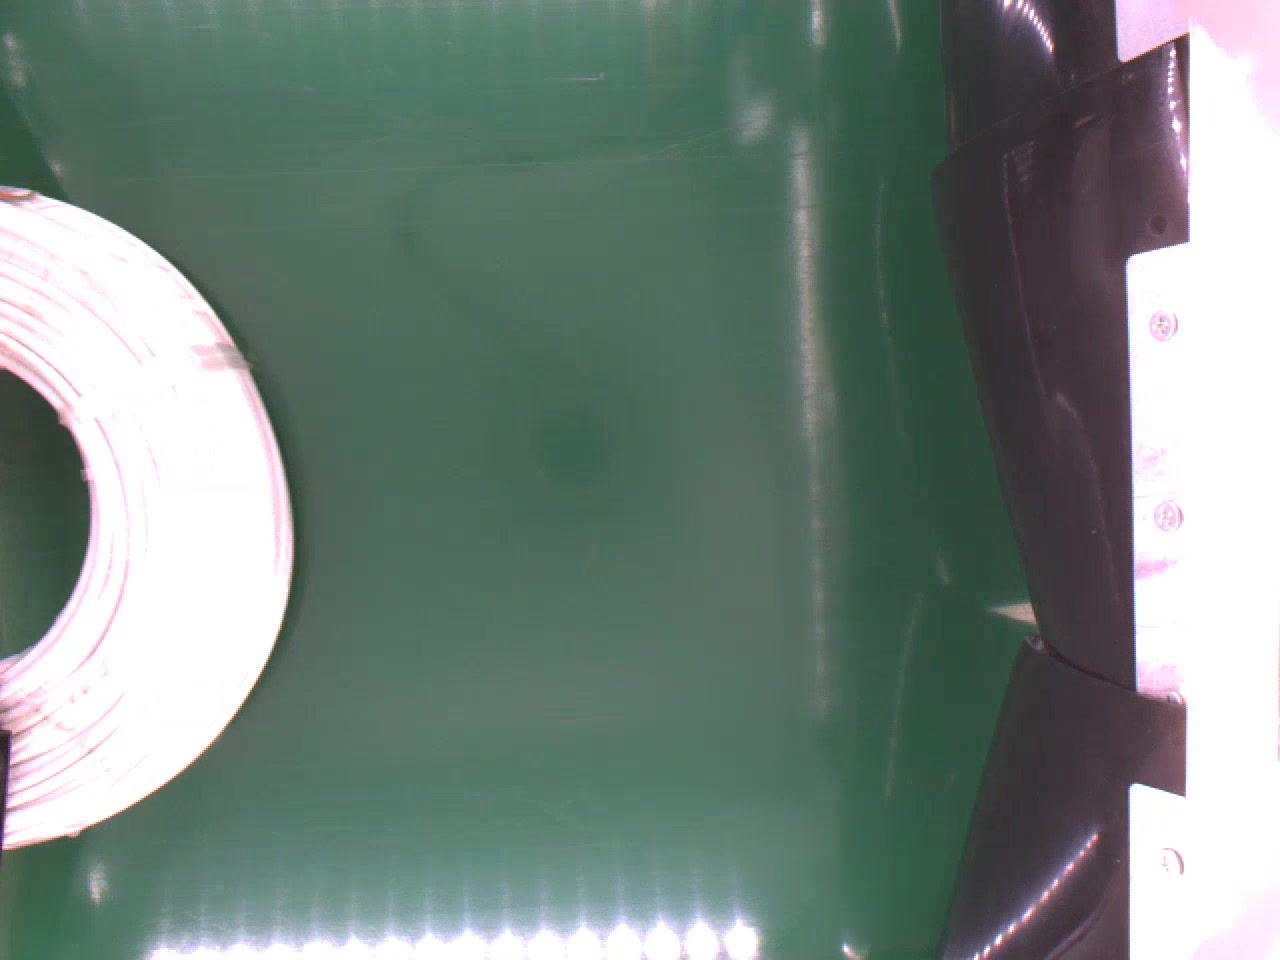white: (0, 182, 295, 852)
